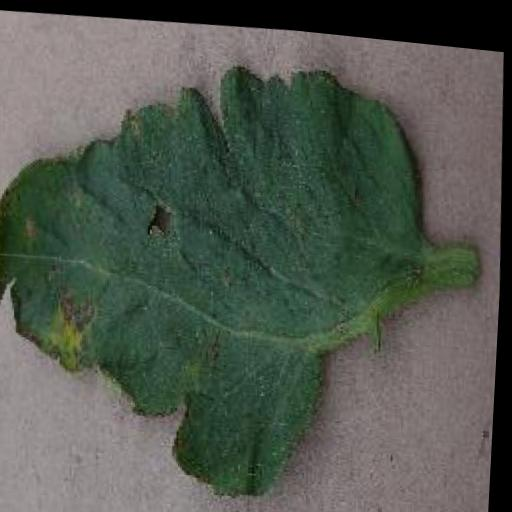Bacterial Spot: (0, 17, 511, 512)
